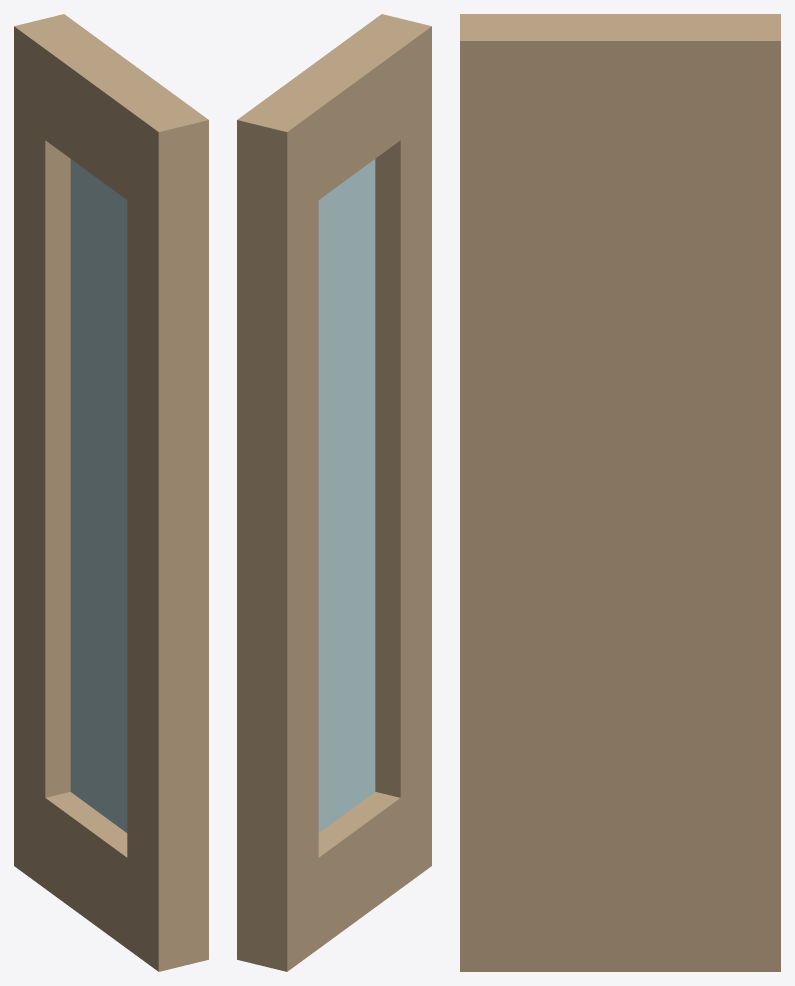
File: Building Door 3.fbx
3 views of the same model, side by side, from view 1: azimuth 30°, elevation 25°; view 2: azimuth 150°, elevation 25°; view 3: azimuth 270°, elevation 25° (orthographic). The views are drawn at different scales.
Visible parts, largest first — view 1: Building Door 3; view 2: Building Door 3; view 3: Building Door 3.
Boxes of the visible parts, box(x1,y1,x2,y2) form: Building Door 3: box(14, 14, 208, 971); Building Door 3: box(237, 14, 431, 971); Building Door 3: box(460, 14, 780, 971).
Bounding box in the file's own units: 0.05 × 0.8 × 0.25.
